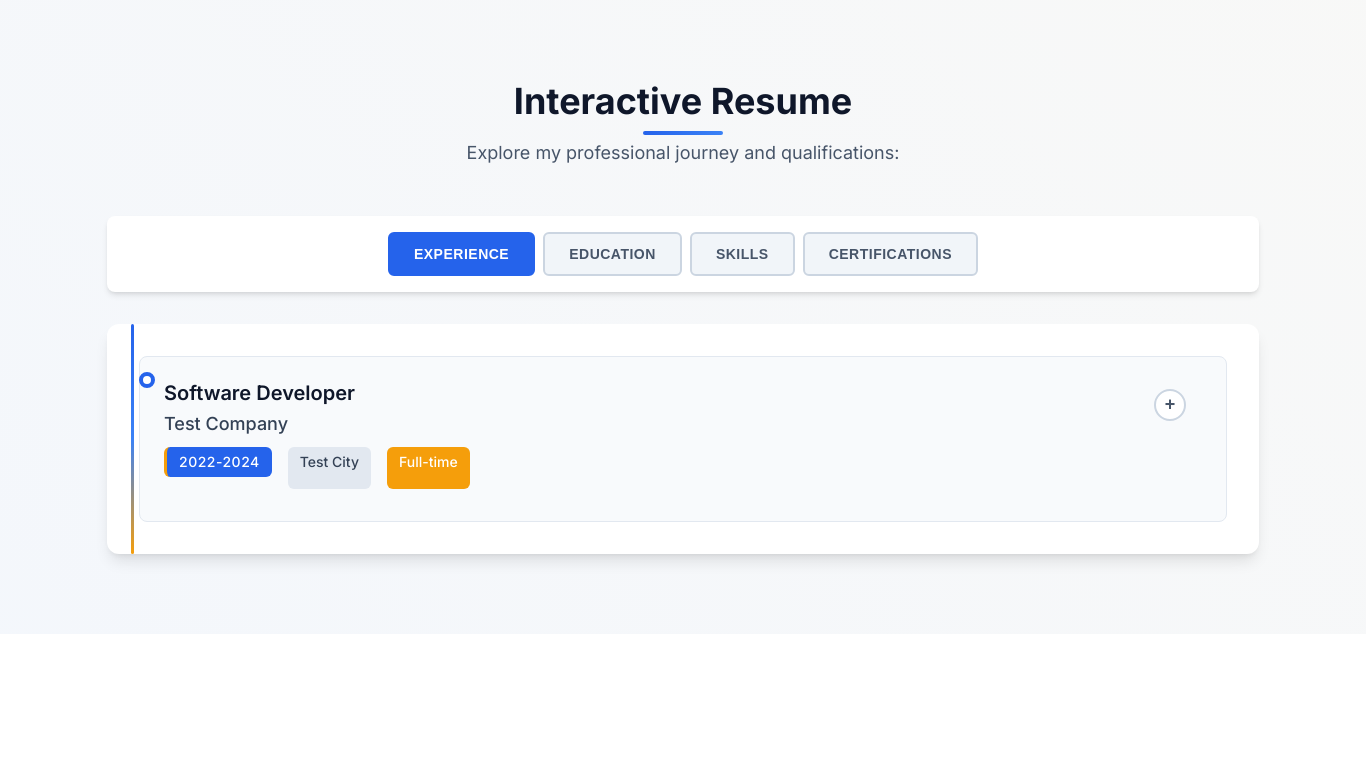
Test case: InteractiveResume Component › clicking skills tab displays skills content
Click the button "Skills" at (742, 254), box [690,232,795,276]
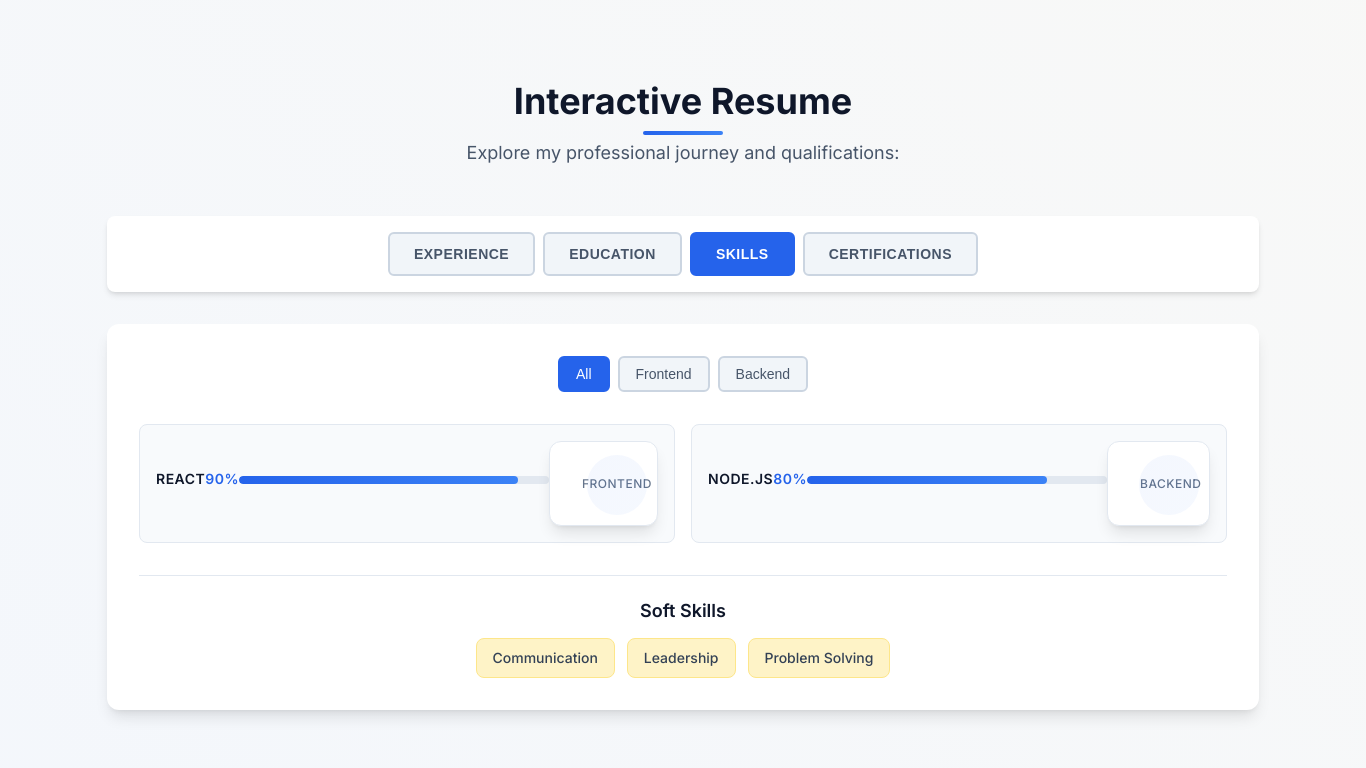
Result: the text "React" is shown at [156,468,205,491]
Result: the text "Node.js" is shown at [708,468,773,491]
Result: the text "Communication" is shown at [476,638,615,678]
